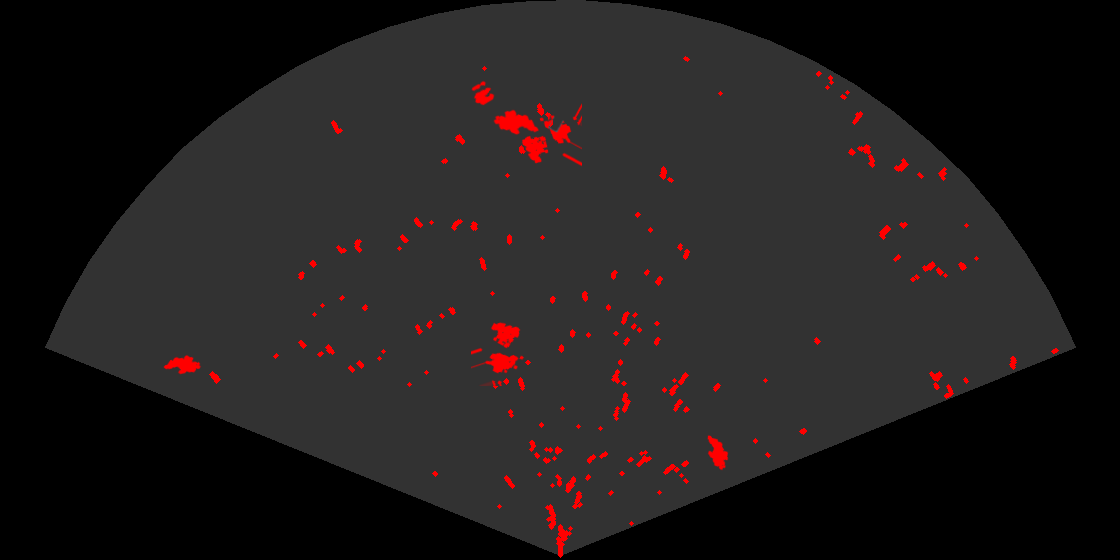AUV: (492, 108, 541, 137), (162, 353, 203, 376), (706, 433, 730, 472)
ball: (470, 79, 496, 107)
cage: (520, 102, 582, 168), (471, 321, 526, 386)
